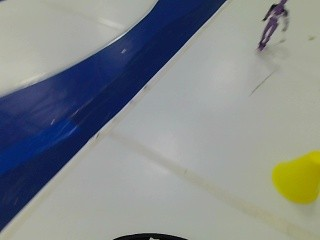cone: (269, 143, 318, 204)
pedestrian: (255, 0, 294, 54)
